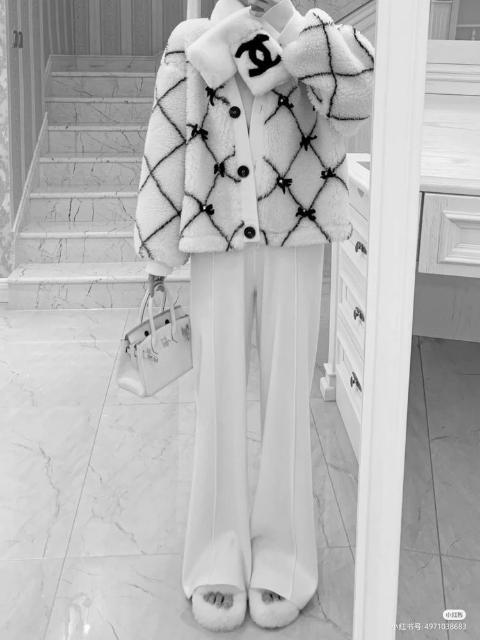Chanel: (235, 34, 282, 77)
